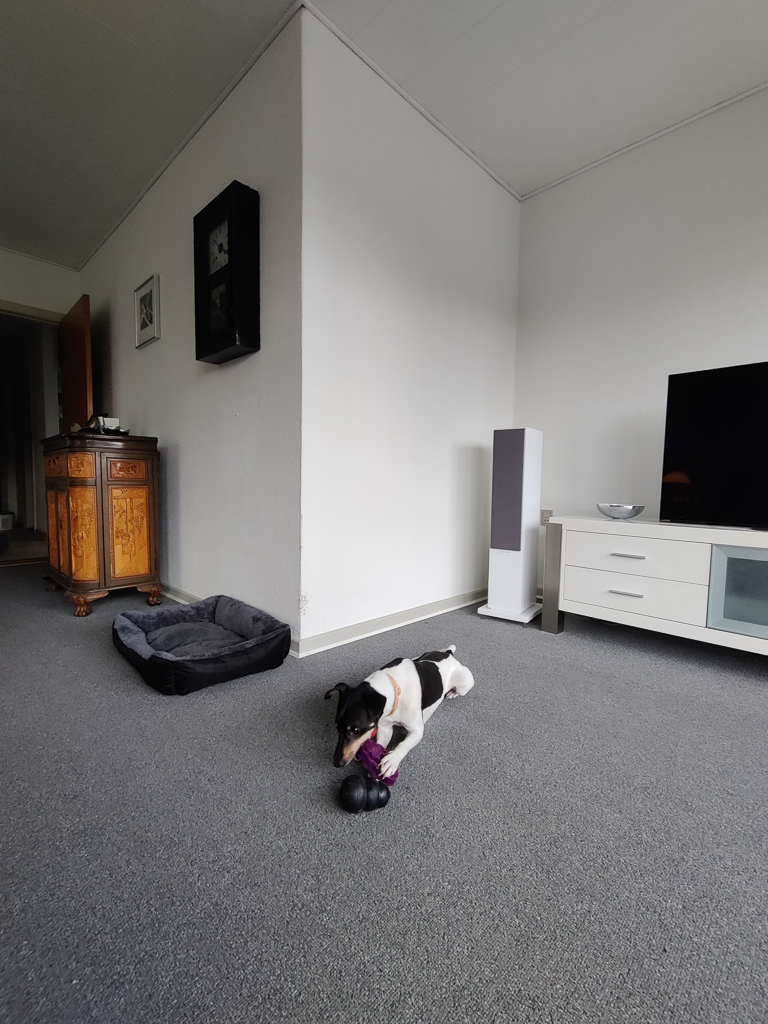Dog: (309, 637, 494, 786)
